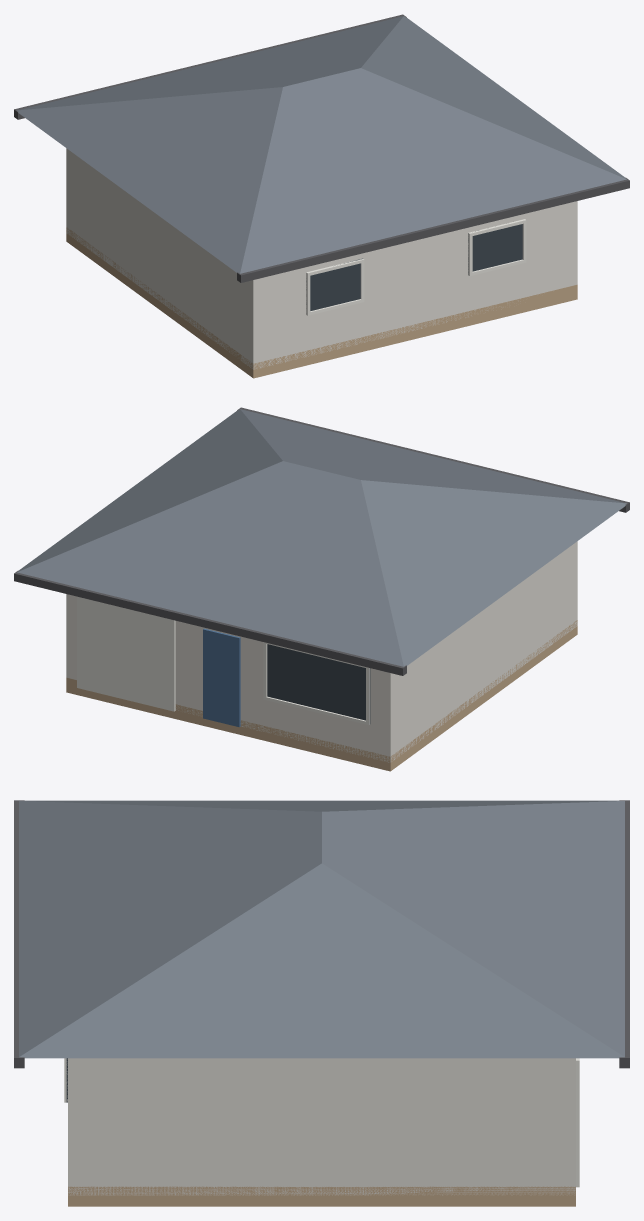
Rendered from ranch.glb.
The picture shows the model from 3 angles, top to bottom: view 1: azimuth 30°, elevation 25°; view 2: azimuth 150°, elevation 25°; view 3: azimuth 270°, elevation 25°; orthographic projection. The views are drawn at different scales.
Visible parts, largest first — view 1: ranch; view 2: ranch; view 3: ranch.
Part boxes in pixels (x1=…): ranch: x1=14, y1=14, x2=629, y2=378; ranch: x1=14, y1=407, x2=629, y2=771; ranch: x1=14, y1=800, x2=629, y2=1206.
Size of the model in its own units: 9.6 by 4.55 by 9.7.
